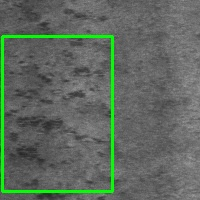rolled-in_scale: (2, 36, 112, 191)
